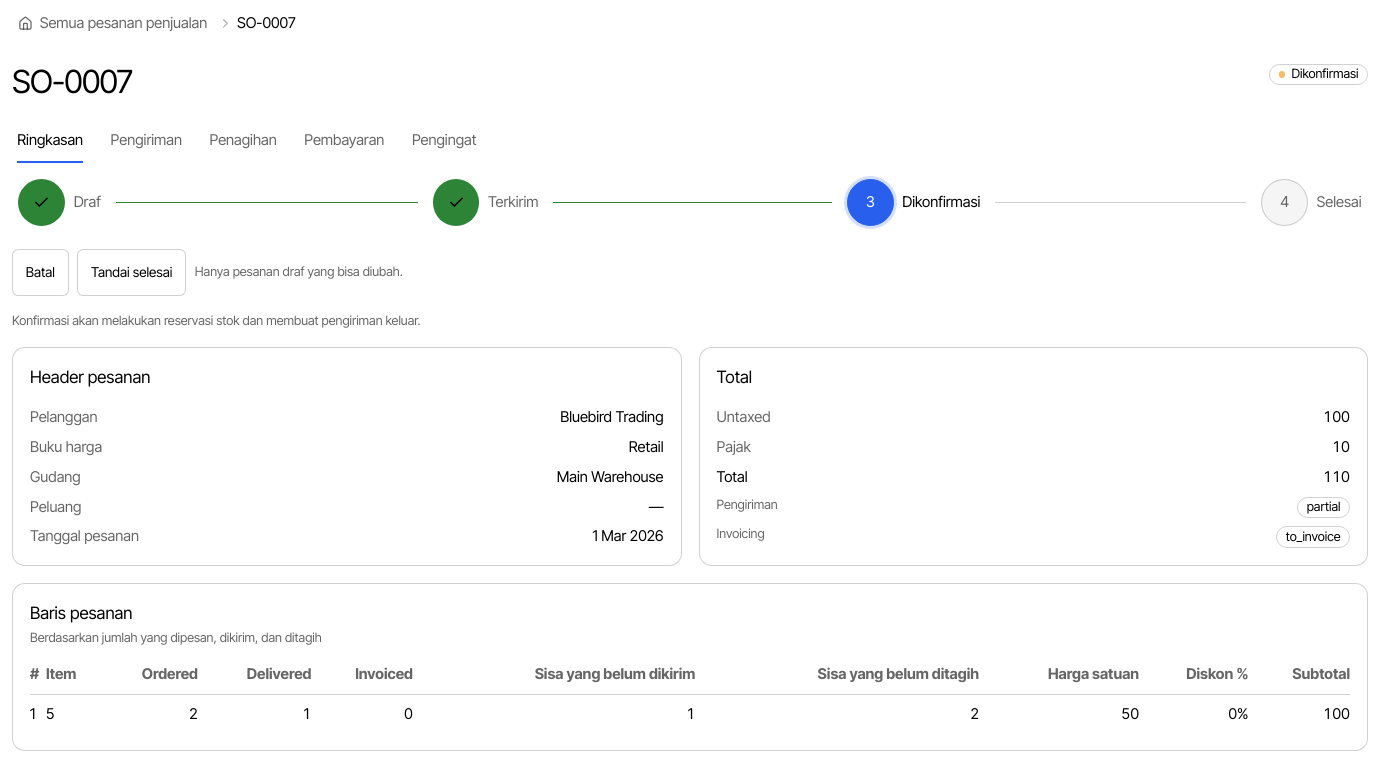
it: SaleOrderDetail remainder › shows the linked shipment on the delivery tab
The width and height of the screenshot is (1378, 768).
Click the tab "Pengiriman": (146, 141) top-left (110, 117), bottom-right (183, 164)
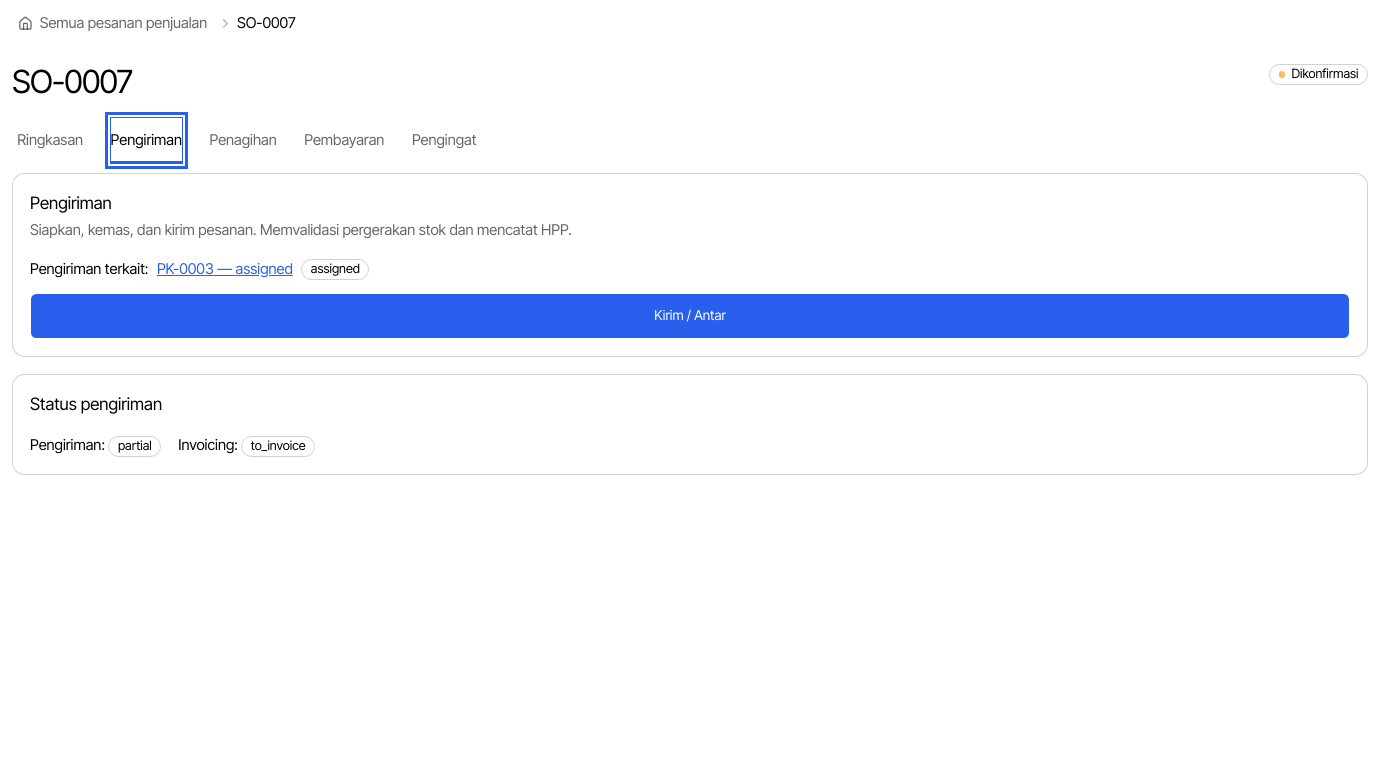
Expected: the link "PK-0003 — assigned" is shown, top-left (157, 259), bottom-right (293, 280)
